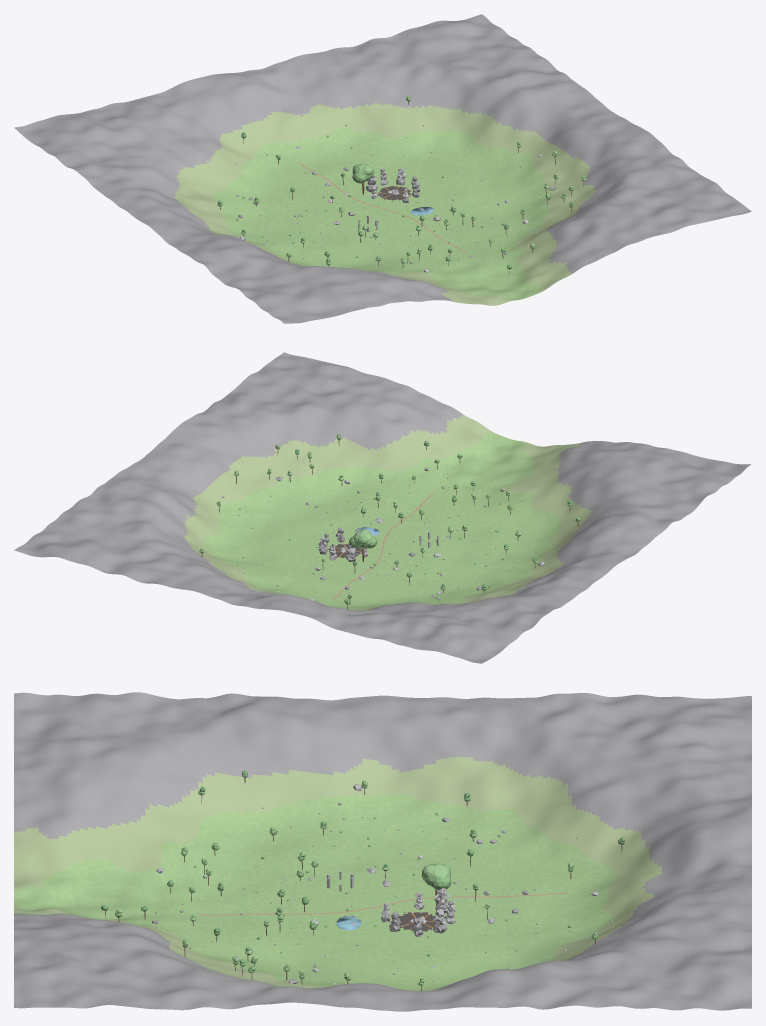
Rendered from Field_grassland.fbx.
3 renders of one model, top to bottom at view 1: azimuth 30°, elevation 25°; view 2: azimuth 150°, elevation 25°; view 3: azimuth 270°, elevation 25°, orthographic. The views are drawn at different scales.
Visible parts, largest first — view 1: Field; view 2: Field; view 3: Field.
Boxes of the visible parts, bbox=[...] form: Field: bbox=[14, 14, 751, 323]; Field: bbox=[14, 352, 751, 663]; Field: bbox=[14, 692, 751, 1011].
Bounding box in the file's own units: 260000 × 25348 × 260000.
